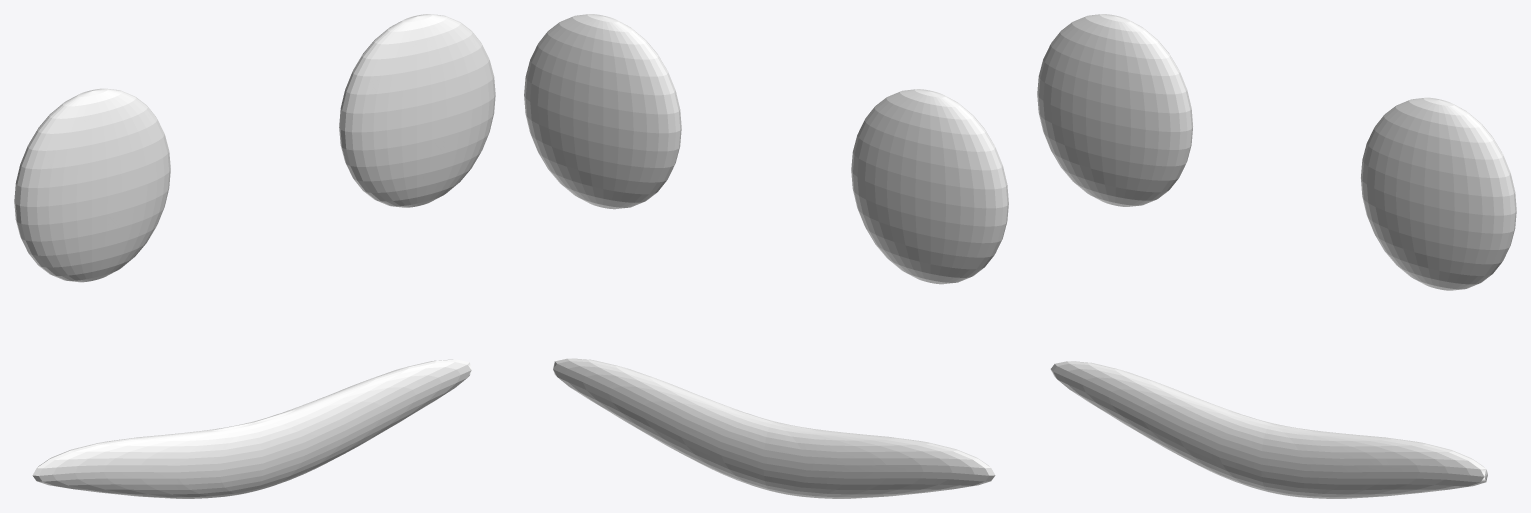
Rendered from Normal_eyesMouth.obj.
3 views of the same model, side by side, from view 1: azimuth 30°, elevation 25°; view 2: azimuth 150°, elevation 25°; view 3: azimuth 330°, elevation 25° (orthographic).
Bounding box in the file's own units: 1.01 × 0.878 × 0.1072.
